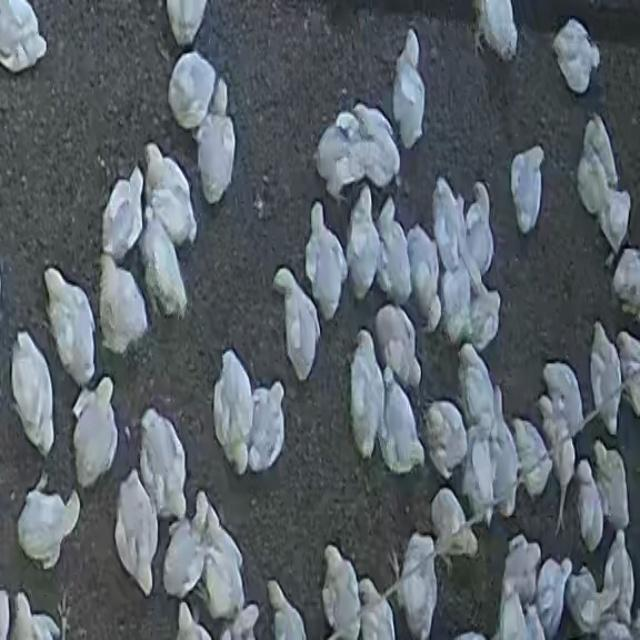chicken: (316, 105, 401, 198), (43, 269, 99, 389), (576, 118, 624, 241), (17, 477, 79, 569), (138, 411, 188, 520), (197, 493, 246, 604), (114, 470, 158, 592), (14, 327, 56, 454), (99, 252, 150, 354), (141, 210, 189, 317), (73, 379, 119, 488), (303, 203, 346, 318), (145, 142, 194, 242), (378, 370, 423, 473), (349, 331, 384, 456), (345, 182, 382, 300), (377, 195, 415, 307), (398, 533, 439, 635), (163, 48, 213, 127), (392, 34, 426, 150), (101, 168, 144, 259), (374, 304, 418, 392), (488, 400, 520, 515), (588, 325, 622, 433), (162, 516, 204, 603), (552, 18, 600, 94), (405, 224, 441, 325), (542, 359, 584, 444), (456, 341, 496, 430), (423, 400, 468, 479), (321, 548, 361, 636), (247, 382, 285, 473), (215, 348, 253, 439), (198, 111, 235, 203), (593, 442, 629, 536), (511, 418, 551, 500), (600, 534, 636, 624), (1, 1, 47, 71), (510, 146, 546, 234), (433, 176, 466, 270), (439, 256, 473, 344), (466, 269, 502, 350), (430, 487, 470, 559), (571, 461, 603, 550), (464, 183, 495, 274), (534, 554, 570, 630), (504, 535, 539, 606), (477, 1, 519, 58), (266, 584, 307, 639), (357, 582, 395, 640), (612, 247, 640, 315), (165, 1, 208, 45), (567, 568, 597, 630), (495, 590, 531, 639)
